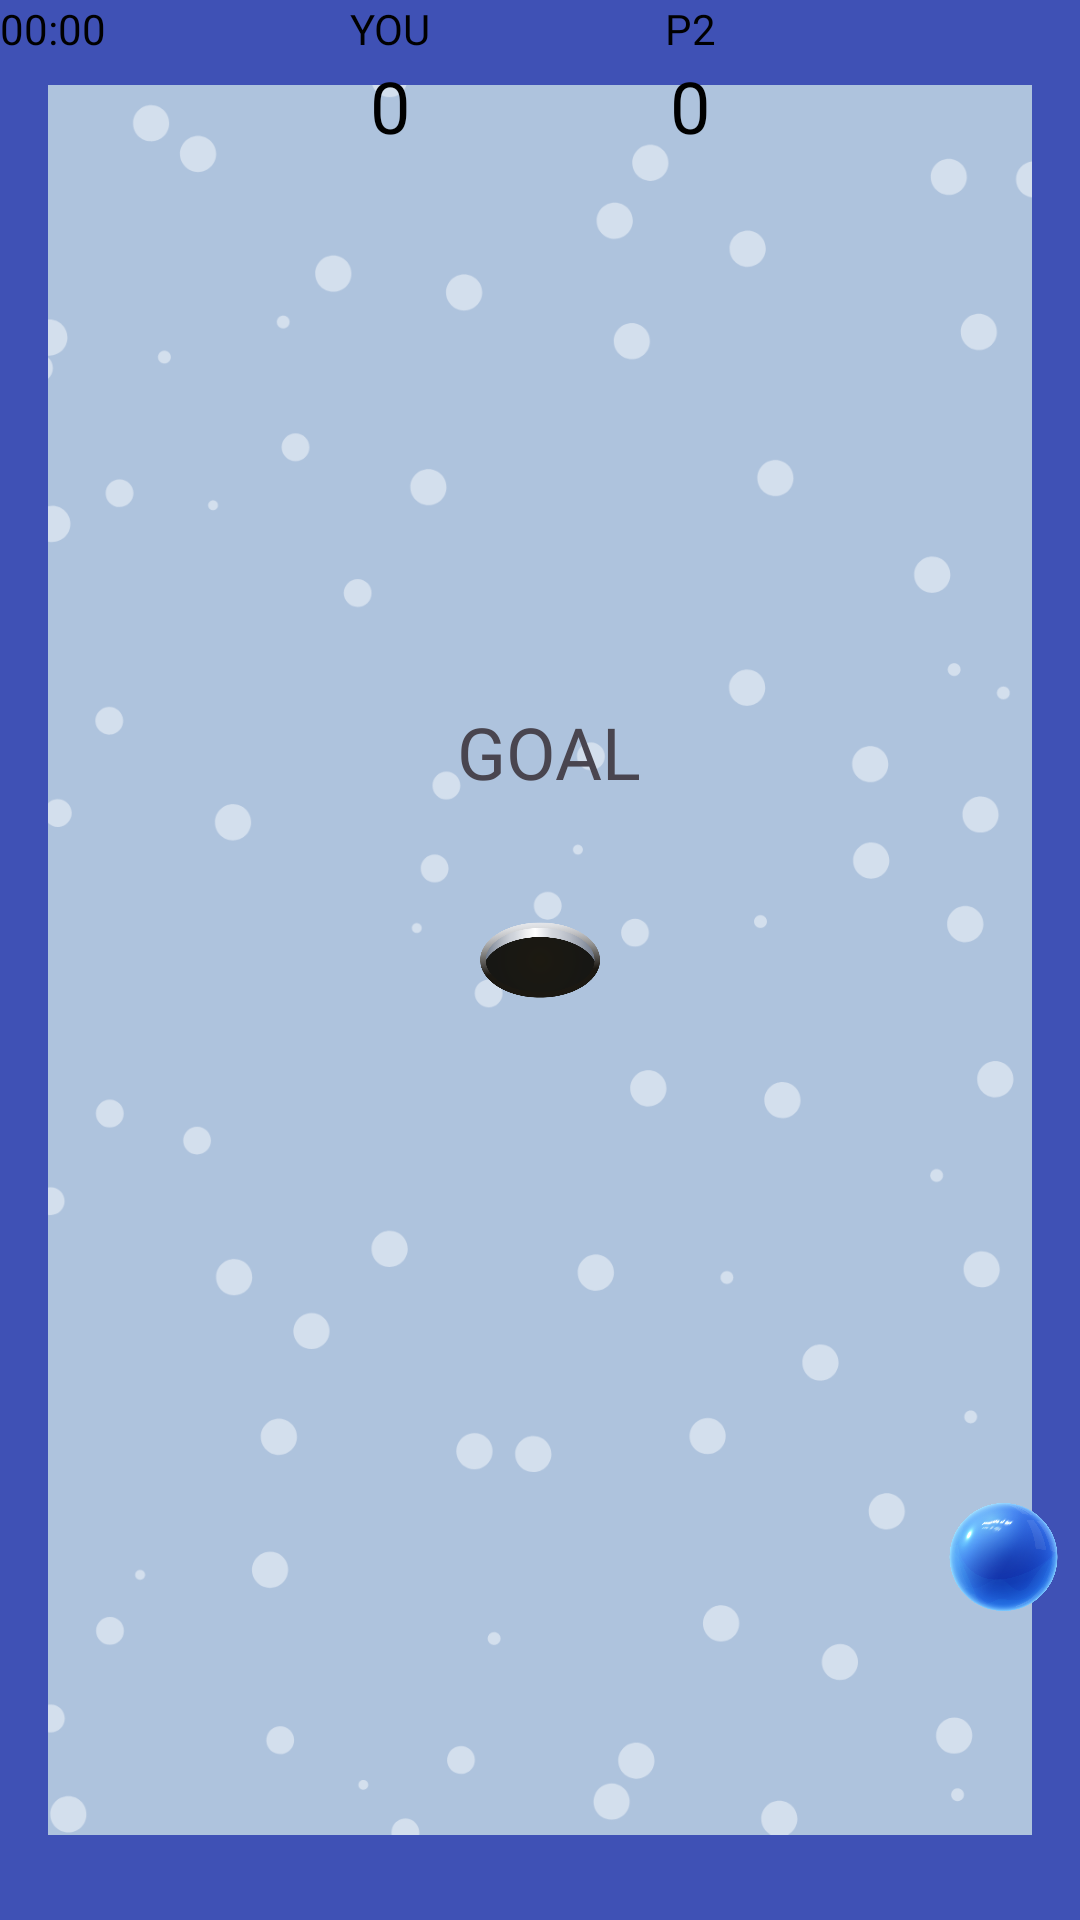

Point at icon controls on the screen. Image size 1080*1920, points as point (x, y).
A ball: point (1010, 1556)
